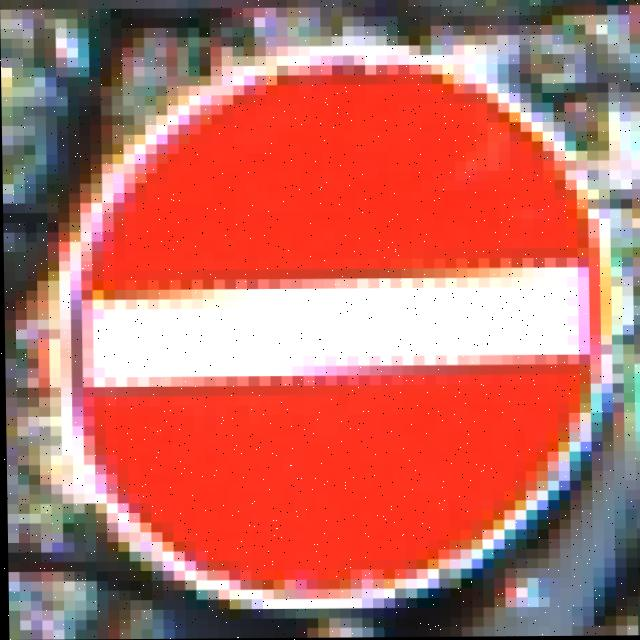road_rough: (68, 35, 640, 618)
